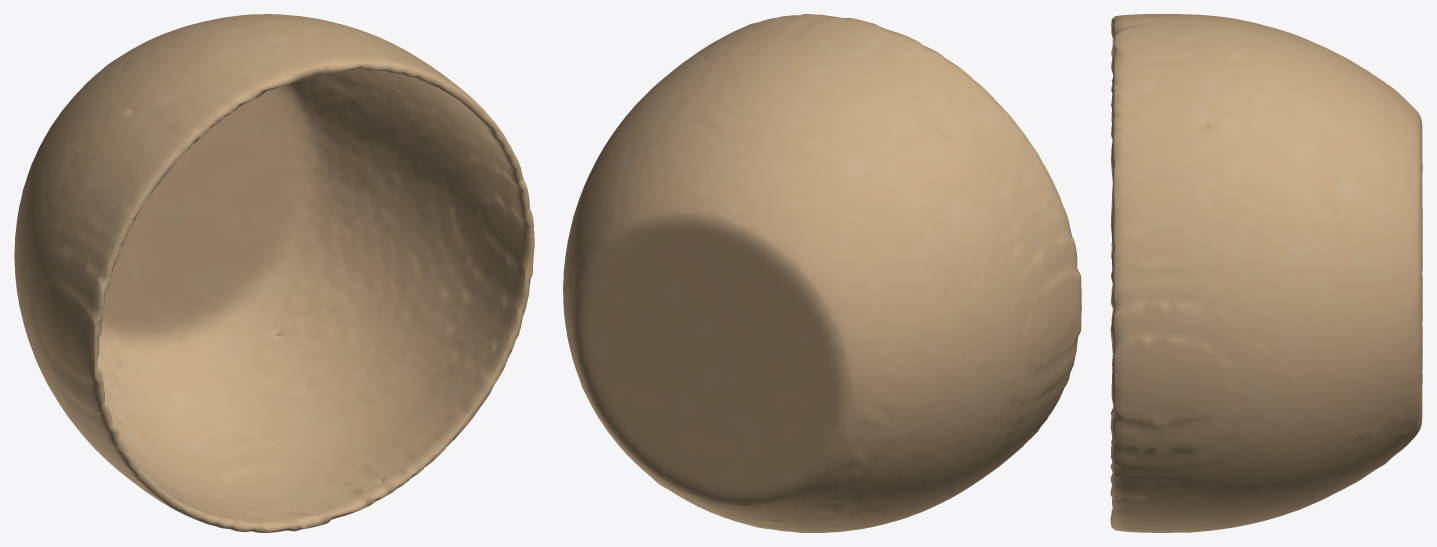
File: a bowl to contain objects.obj
3 renders of one model, left to right at view 1: azimuth 30°, elevation 25°; view 2: azimuth 150°, elevation 25°; view 3: azimuth 270°, elevation 25°, orthographic.
Bounding box in the file's own units: 1 × 0.9987 × 0.6016.
